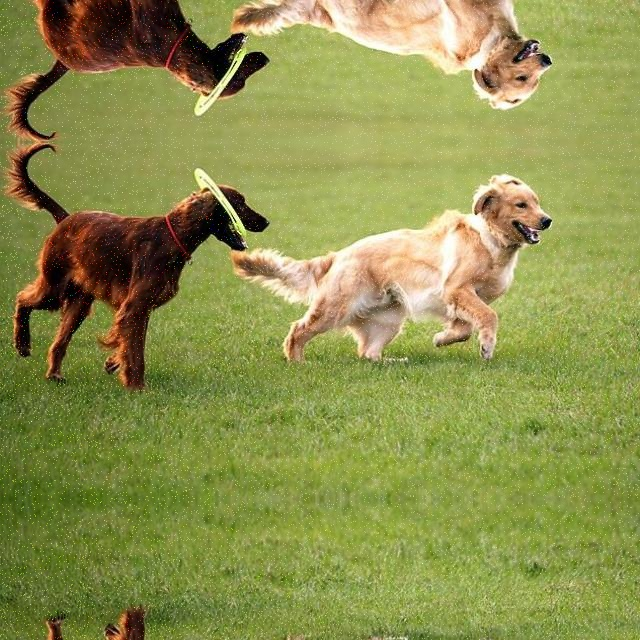dog: (272, 169, 558, 367), (273, 0, 558, 113), (273, 630, 558, 640)
